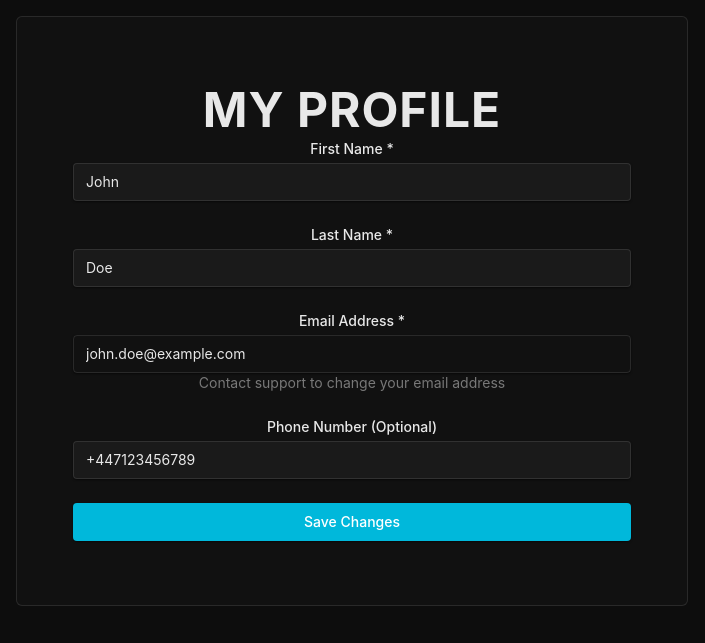
Test: MyProfilePage › Form Validation › should clear field errors when user starts typing
Clear the field labelled "First Name *": (352,182) [73,163,631,201]
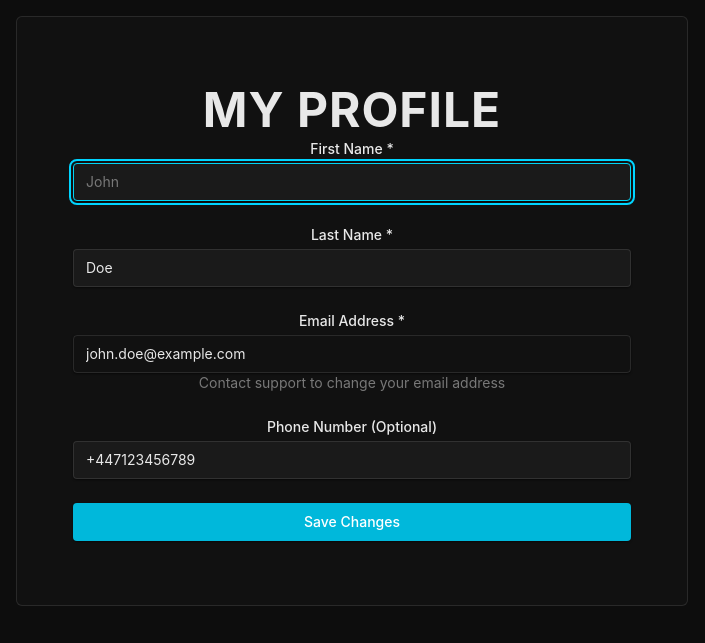
Press Tab
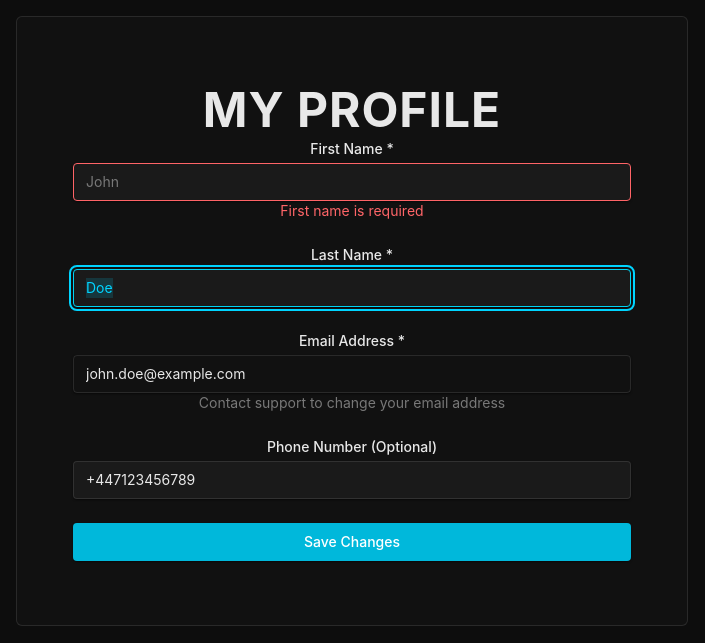
Now the text "First name is required" is shown, box [280,202,424,219]
In the field labelled "First Name *": (352,182) [73,163,631,201], type "Jane"
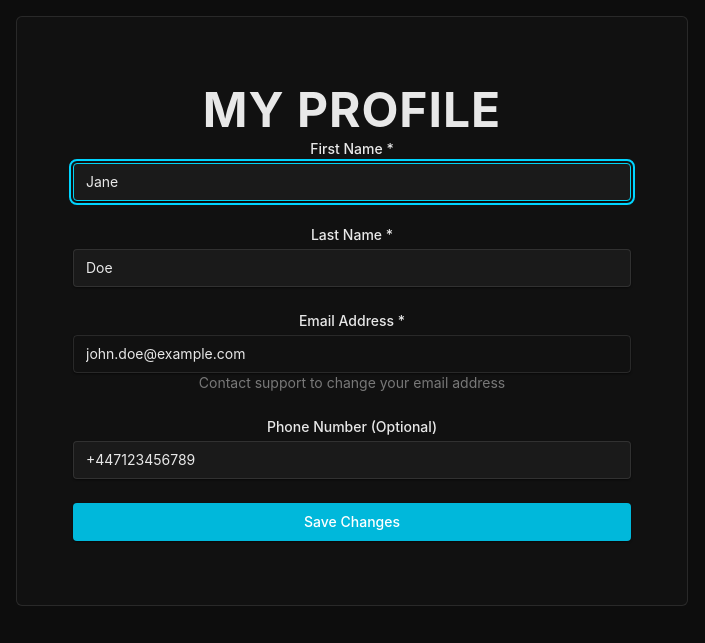
Now the text "First name is required" is gone
